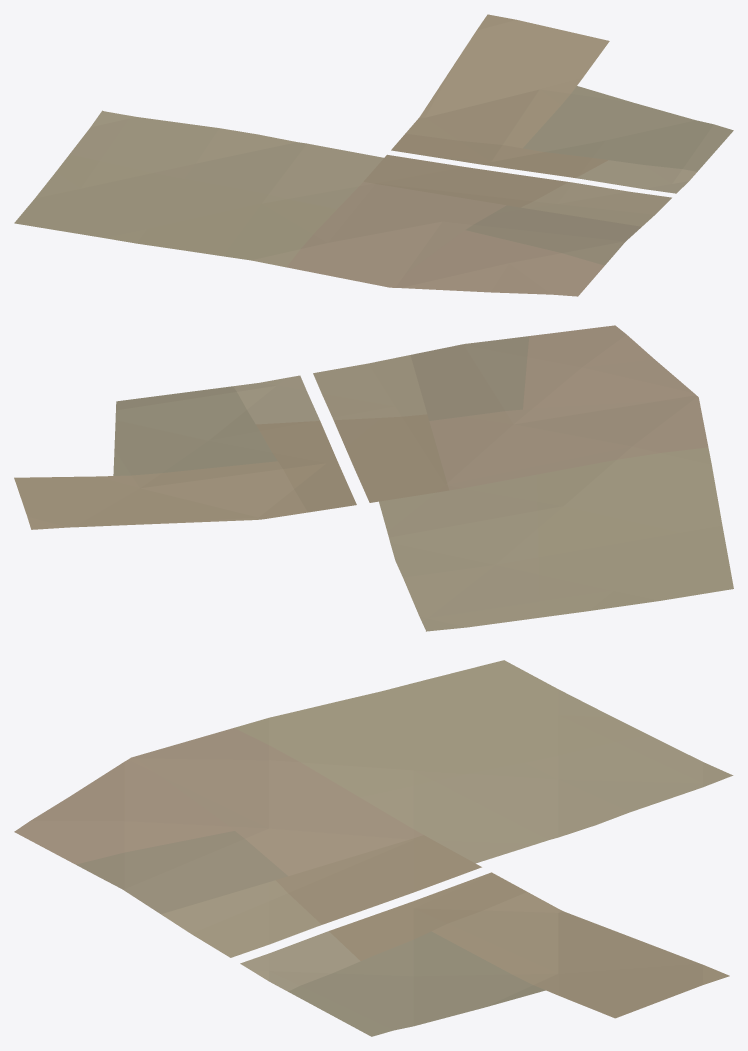
File: farm_20_19_soil.glb
3 views of the same model, one above another, from view 1: azimuth 30°, elevation 25°; view 2: azimuth 150°, elevation 25°; view 3: azimuth 270°, elevation 25° (orthographic). The views are drawn at different scales.
Parts seen in each view (by area): view 1: geometry_0; view 2: geometry_0; view 3: geometry_0.
Boxes of the visible parts, x1=… form: geometry_0: x1=14, y1=14, x2=733, y2=296; geometry_0: x1=14, y1=325, x2=733, y2=631; geometry_0: x1=14, y1=660, x2=733, y2=1036.
Bounding box in the file's own units: 460 × 22.79 × 398.
